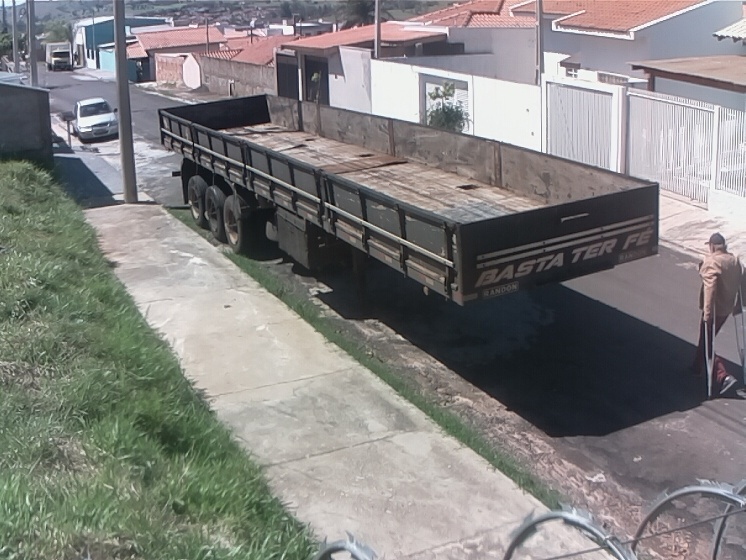person: (681, 232, 746, 402)
